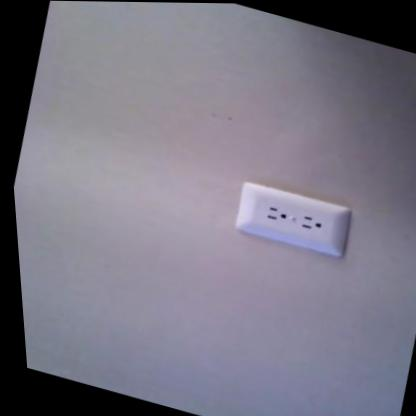OUTLET: (228, 178, 355, 260)
